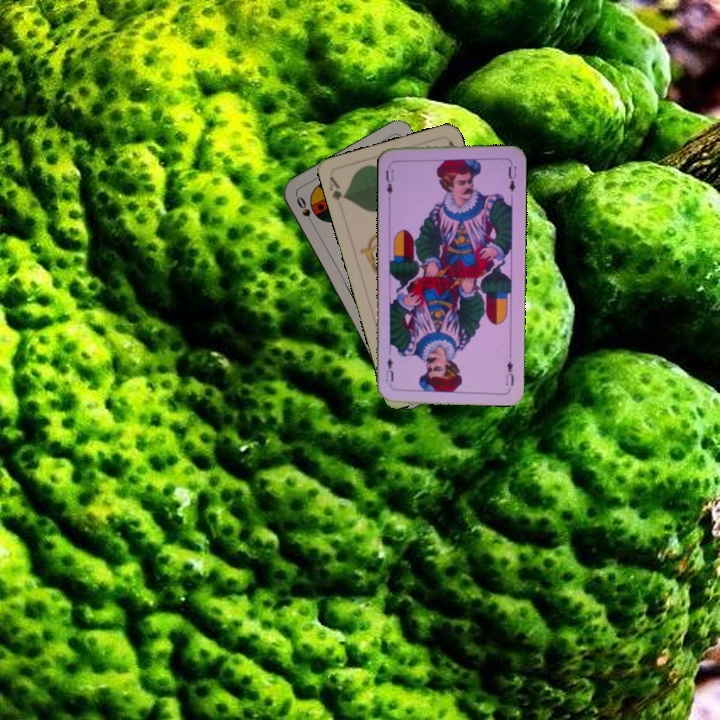EU: (382, 159, 396, 200), (501, 357, 516, 388)
GA: (325, 172, 349, 204)
SO: (292, 192, 317, 229)
